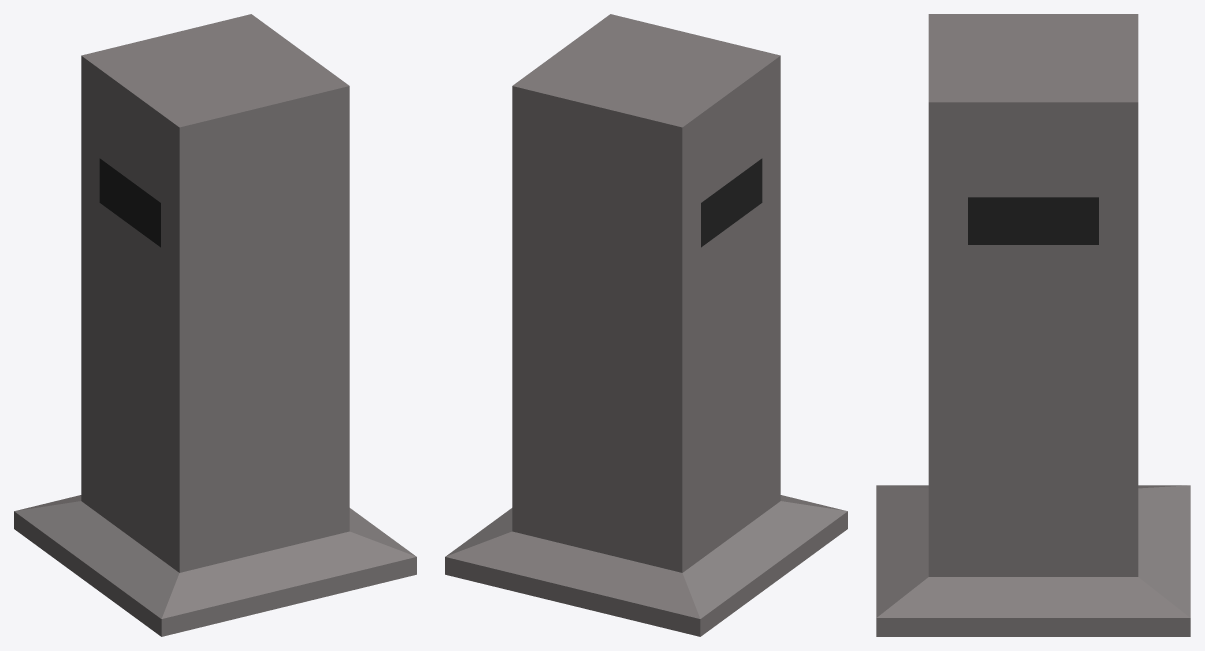
Rendered from ventilation.glb.
3 views of the same model, side by side, from view 1: azimuth 30°, elevation 25°; view 2: azimuth 150°, elevation 25°; view 3: azimuth 270°, elevation 25° (orthographic). The views are drawn at different scales.
Parts seen in each view (by area): view 1: ventilation; view 2: ventilation; view 3: ventilation.
Part boxes in pixels (bbox=[...]): ventilation: bbox=[14, 14, 416, 636]; ventilation: bbox=[445, 14, 847, 636]; ventilation: bbox=[876, 14, 1190, 636].
Bounding box in the file's own units: 0.5999 × 1.08 × 0.5999.
1 material, 1 textured.
